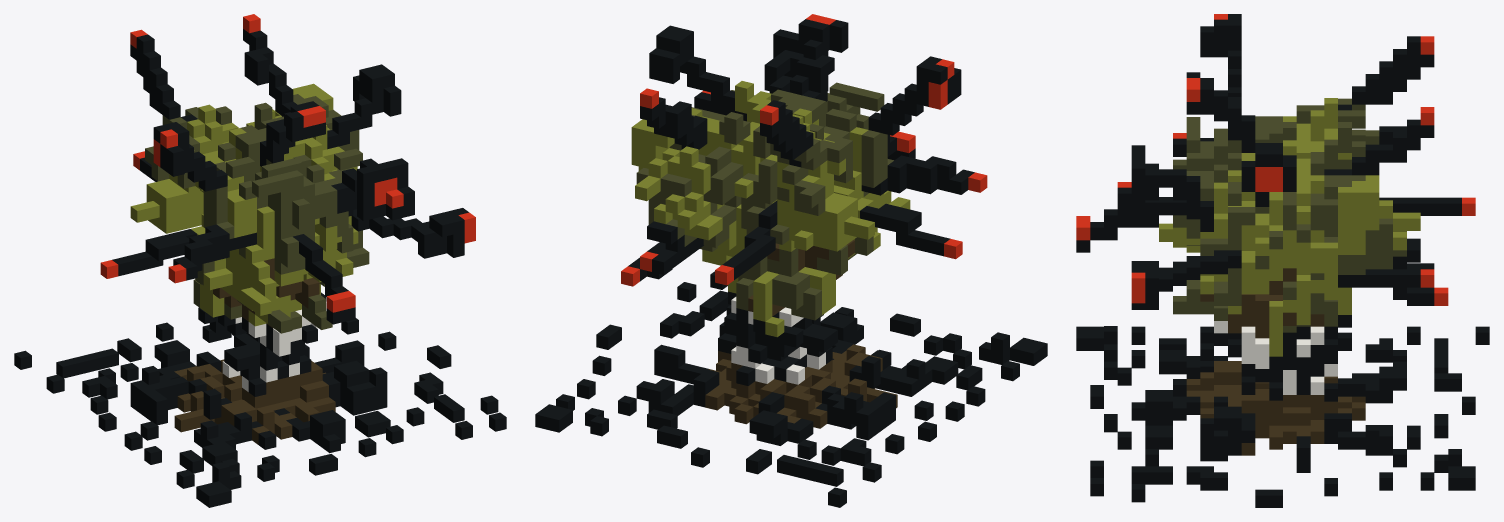
The model's file is Alejandro_Ramirez_Velasquez_fase_4.obj.
3 views of the same model, side by side, from view 1: azimuth 30°, elevation 25°; view 2: azimuth 150°, elevation 25°; view 3: azimuth 270°, elevation 25° (orthographic). The views are drawn at different scales.
Parts seen in each view (by area): view 1: Alejandro_Ramirez_Velasquez_fase_4; view 2: Alejandro_Ramirez_Velasquez_fase_4; view 3: Alejandro_Ramirez_Velasquez_fase_4.
Part boxes in pixels (<box>): Alejandro_Ramirez_Velasquez_fase_4: <box>14,14,506,507</box>; Alejandro_Ramirez_Velasquez_fase_4: <box>535,14,1047,507</box>; Alejandro_Ramirez_Velasquez_fase_4: <box>1076,14,1489,507</box>.
Size of the model in its own units: 30 by 28 by 30.
Materials: 1 (1 with a texture image).
